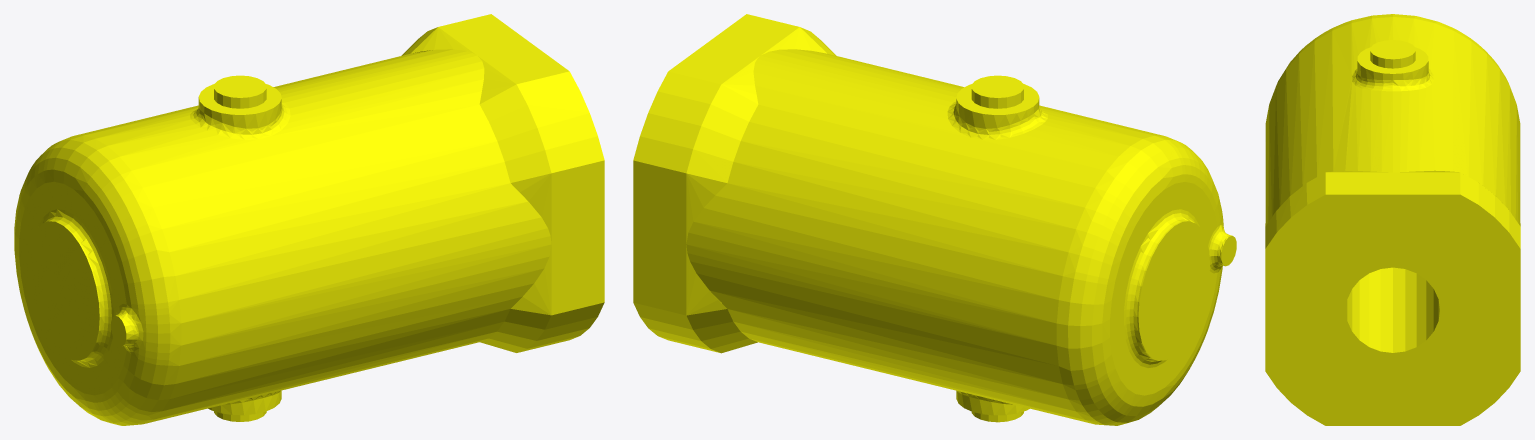
3 views of the same model, side by side, from view 1: azimuth 30°, elevation 25°; view 2: azimuth 150°, elevation 25°; view 3: azimuth 270°, elevation 25° (orthographic). The views are drawn at different scales.
Parts seen in each view (by area): view 1: node; view 2: node; view 3: node.
Boxes of the visible parts, <box> form: node: <box>14,14,604,425</box>; node: <box>633,14,1236,425</box>; node: <box>1265,14,1520,425</box>.
Bounding box in the file's own units: 527 × 361 × 290.
